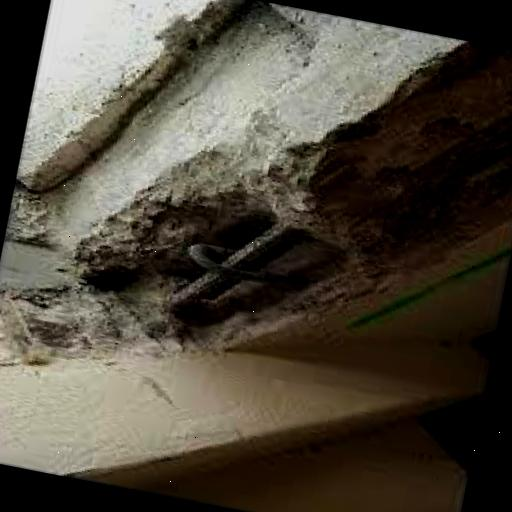spalling: (96, 184, 373, 350)
